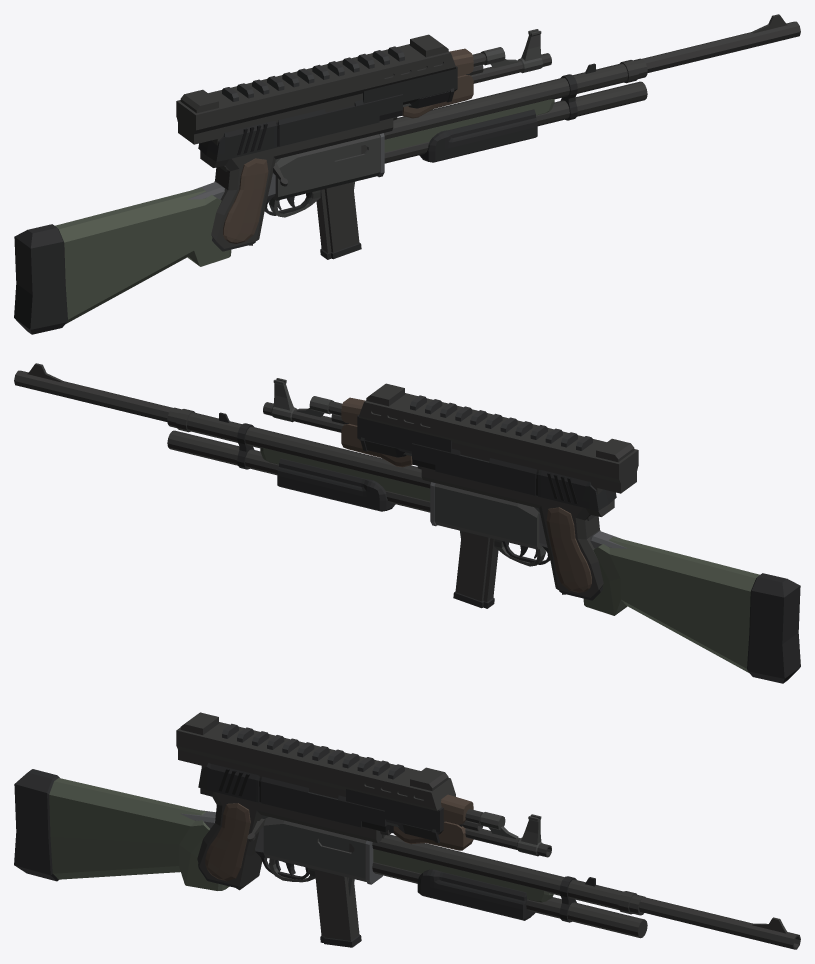
File: guns.glb
3 views of the same model, one above another, from view 1: azimuth 30°, elevation 25°; view 2: azimuth 150°, elevation 25°; view 3: azimuth 330°, elevation 25° (orthographic).
Parts seen in each view (by area): view 1: SniperRifle_1_Cube.113, SubmachineGun_1_Cube.083, Shotgun_1_Cube.045, Pistol_1_Cube.204, AssaultRifle_1_Cube.139; view 2: SniperRifle_1_Cube.113, Shotgun_1_Cube.045, SubmachineGun_1_Cube.083, Pistol_1_Cube.204, AssaultRifle_1_Cube.139; view 3: SniperRifle_1_Cube.113, SubmachineGun_1_Cube.083, Shotgun_1_Cube.045, Pistol_1_Cube.204, AssaultRifle_1_Cube.139.
Boxes of the visible parts, x1,y1,x2,y2 form: SniperRifle_1_Cube.113: [14, 14, 800, 334]; SubmachineGun_1_Cube.083: [176, 34, 483, 259]; Shotgun_1_Cube.045: [187, 58, 647, 217]; Pistol_1_Cube.204: [198, 94, 402, 251]; AssaultRifle_1_Cube.139: [219, 29, 551, 189]; SniperRifle_1_Cube.113: [14, 363, 800, 683]; Shotgun_1_Cube.045: [167, 407, 628, 566]; SubmachineGun_1_Cube.083: [331, 383, 638, 608]; Pistol_1_Cube.204: [412, 443, 616, 600]; AssaultRifle_1_Cube.139: [263, 378, 595, 538]; SniperRifle_1_Cube.113: [14, 769, 800, 949]; SubmachineGun_1_Cube.083: [176, 712, 482, 947]; Shotgun_1_Cube.045: [180, 810, 647, 938]; Pistol_1_Cube.204: [197, 763, 389, 888]; AssaultRifle_1_Cube.139: [347, 794, 551, 896].
Bounding box in the file's own units: 7.29 × 1.75 × 0.466.
